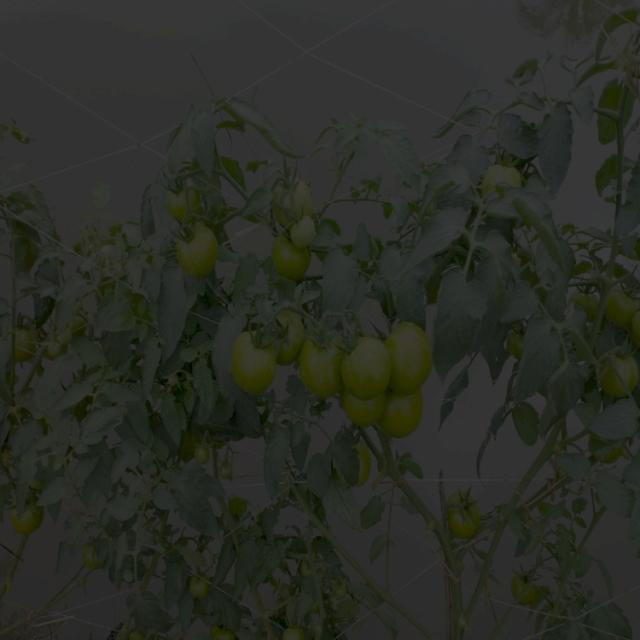tomato: (238, 305, 306, 394), (389, 317, 431, 388), (307, 329, 347, 399), (440, 489, 487, 538), (594, 352, 640, 401), (178, 227, 221, 277), (166, 175, 206, 224), (384, 395, 427, 438), (12, 497, 51, 541), (348, 341, 386, 386), (339, 443, 377, 486), (613, 286, 640, 344), (482, 159, 519, 199), (344, 395, 384, 429), (573, 279, 603, 324), (41, 322, 72, 360), (509, 324, 542, 359), (514, 568, 543, 605), (15, 320, 37, 368), (274, 181, 310, 208), (270, 253, 299, 285), (86, 538, 110, 574), (291, 216, 315, 247), (281, 621, 320, 640), (206, 626, 244, 640), (190, 574, 208, 594), (194, 444, 210, 462), (227, 461, 238, 484), (130, 630, 153, 640)
